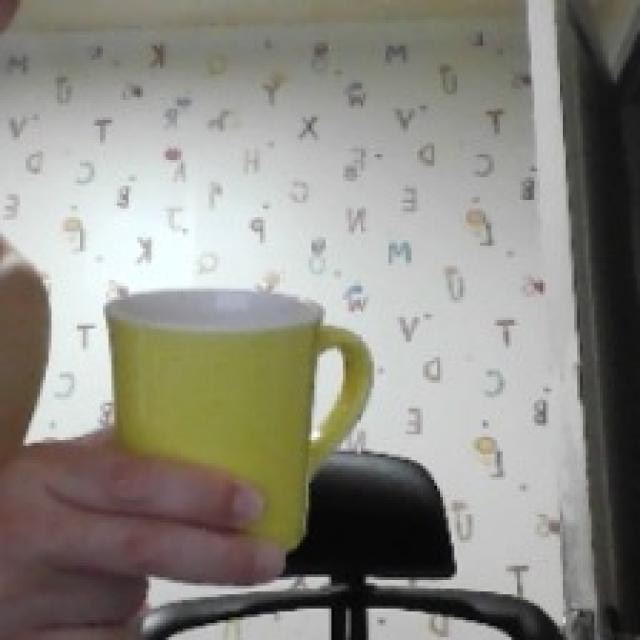cup: (106, 289, 371, 549)
